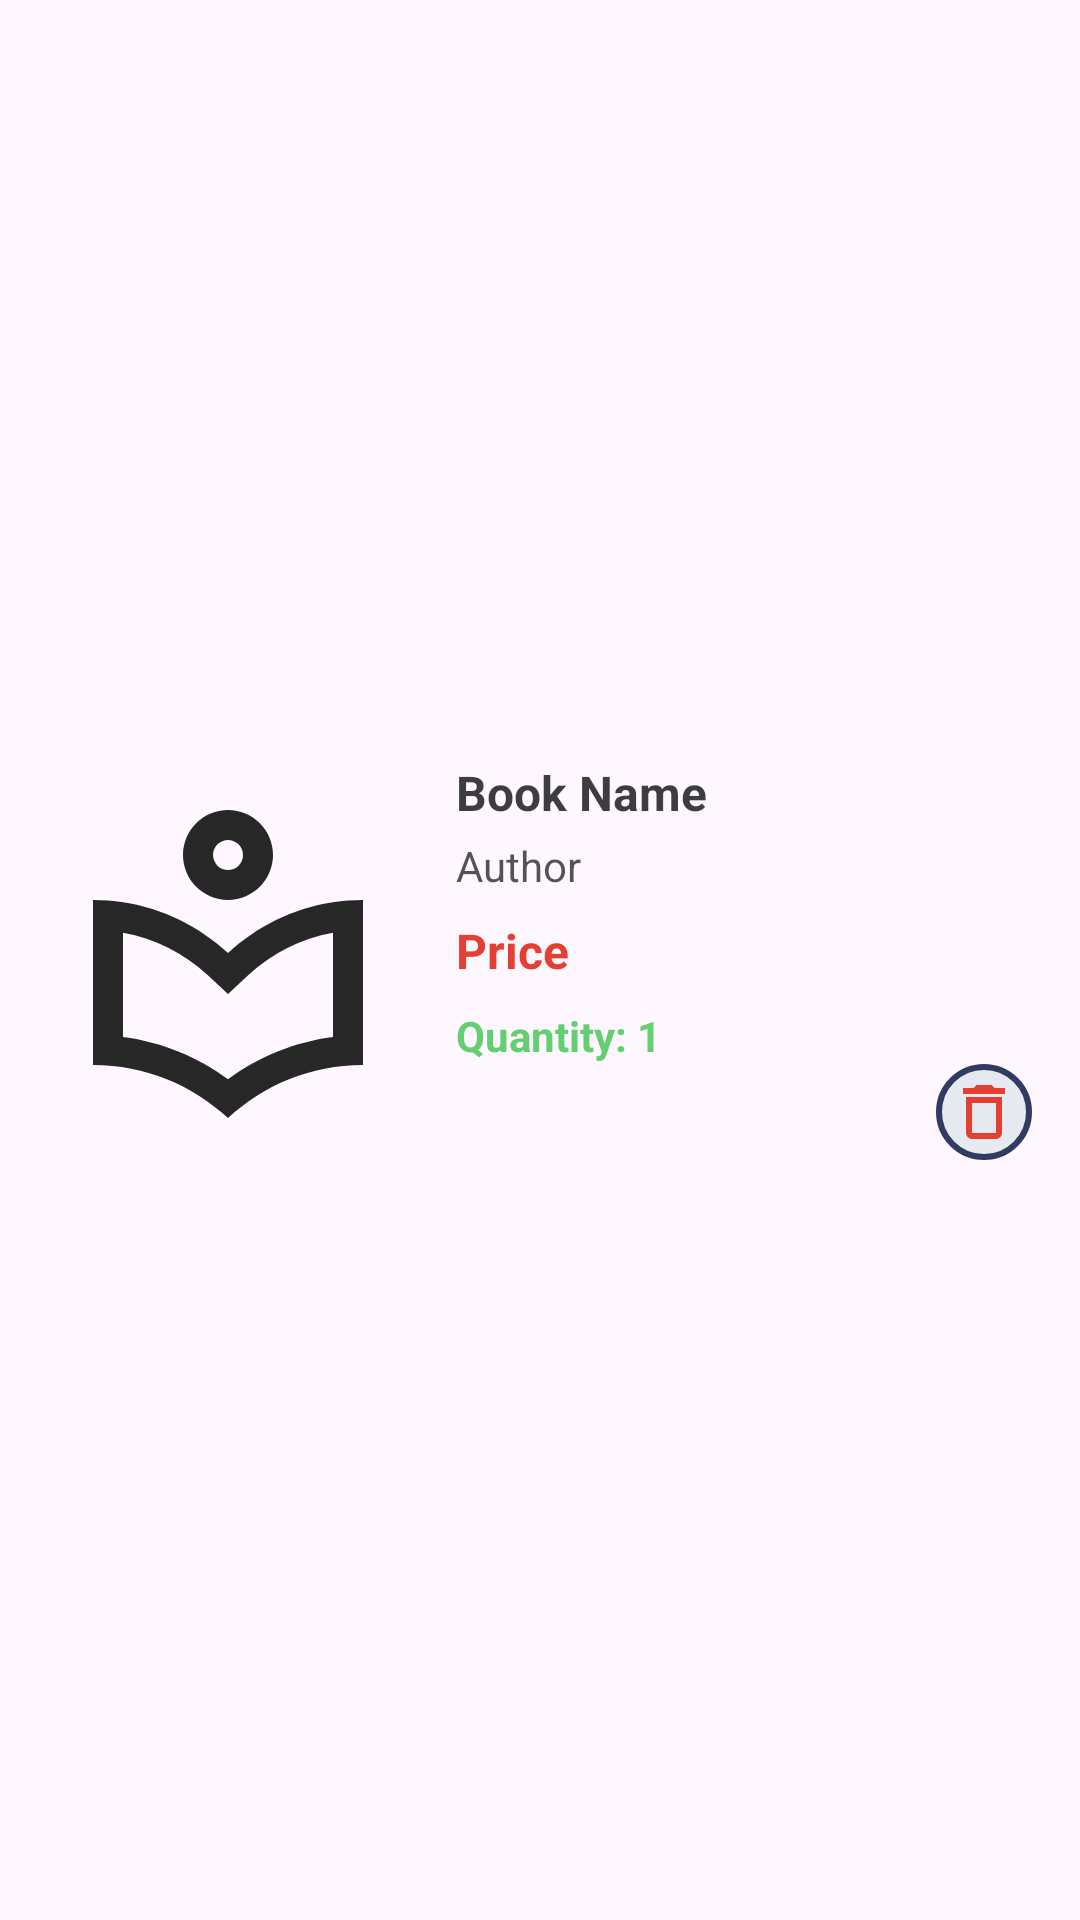

Icons on this 1080px×1920px Android screen, each with the point to tap as [x,y]:
delete: [984,1112]
library: [228,964]
